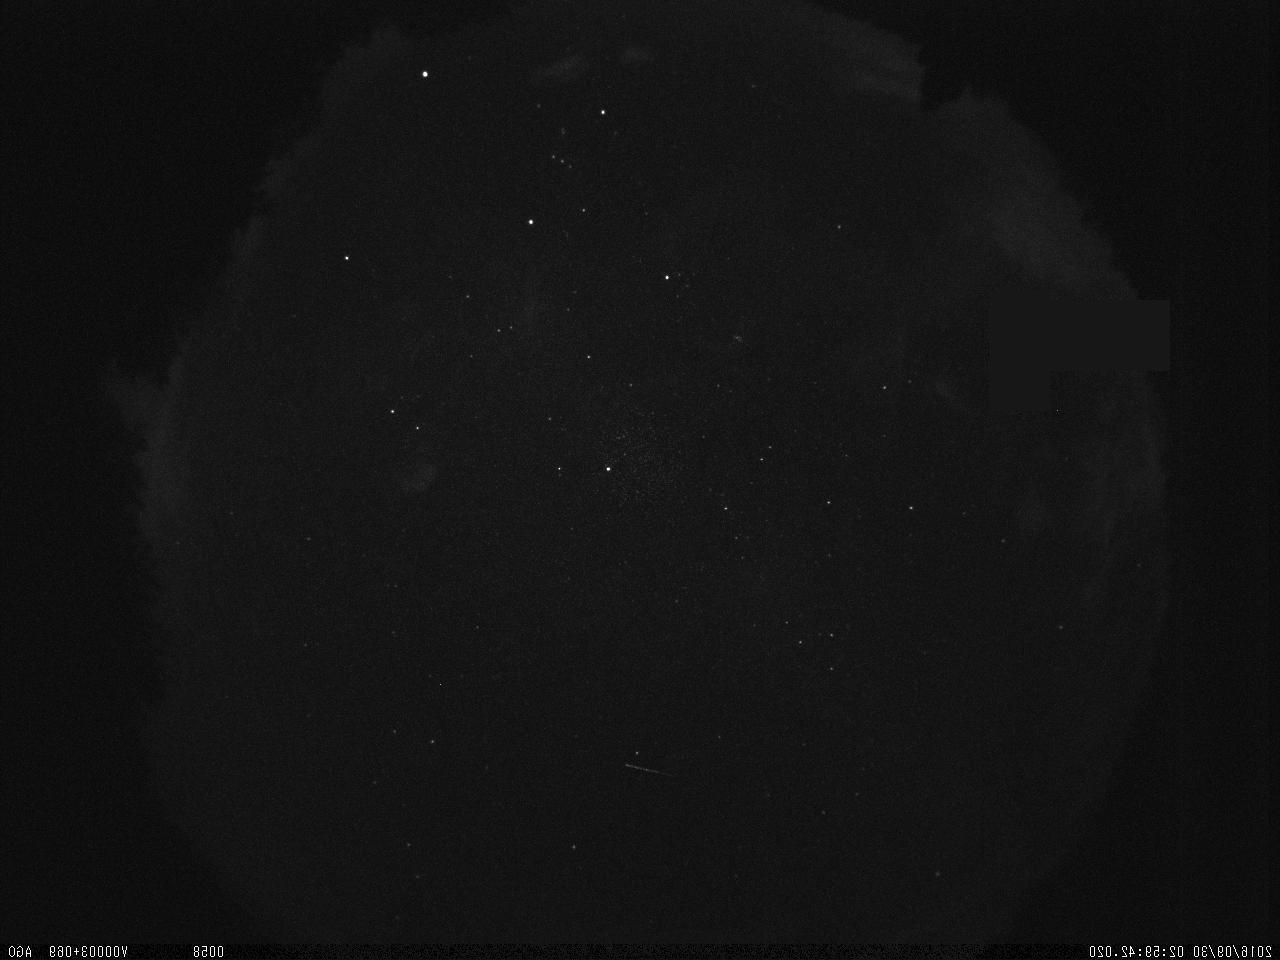meteor: (609, 752, 691, 801)
